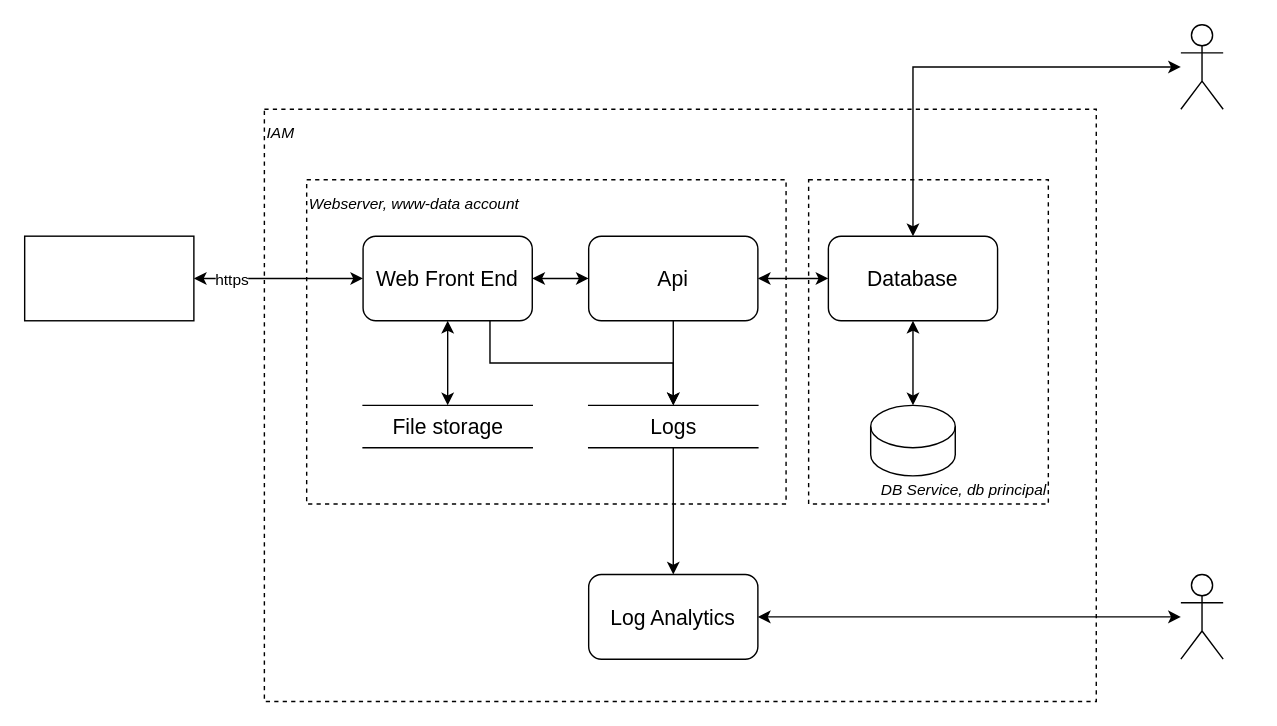
Image size: 1277x726. Some labels were removed from this diagram. Each missing label, with the box of its shape:
DB: (869, 404, 955, 476)
DB Admin: (1179, 23, 1223, 109)
Operations: (1179, 573, 1223, 659)
Web client: (23, 235, 194, 321)
